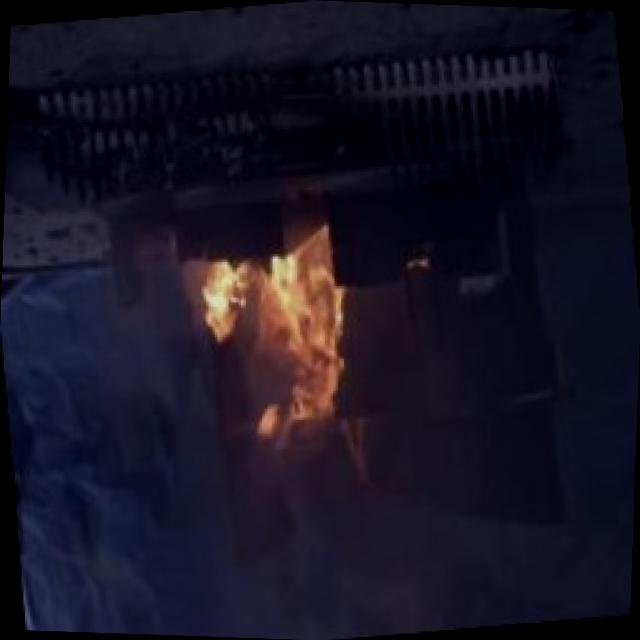fire: (154, 194, 395, 472)
